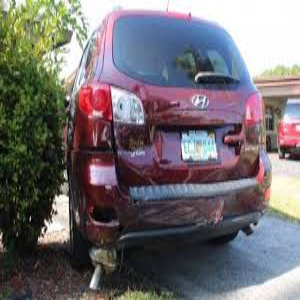bumper: (74, 197, 226, 243)
